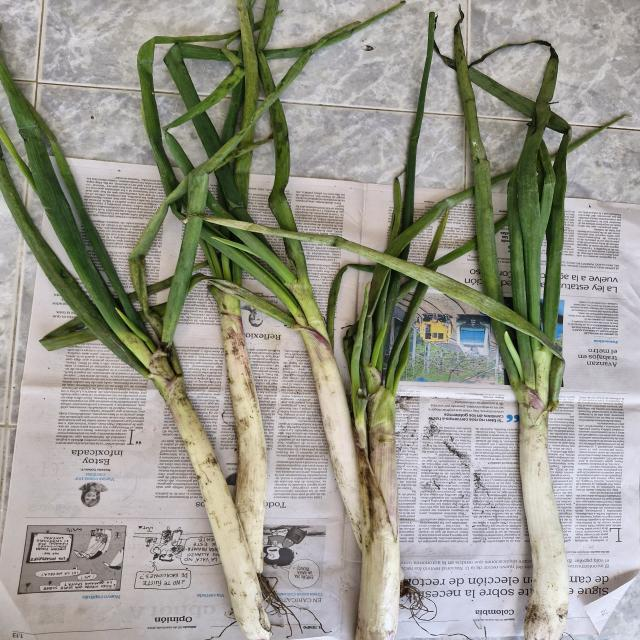green_onion: (0, 68, 261, 640), (456, 21, 580, 640), (243, 132, 359, 517), (353, 264, 422, 640)
